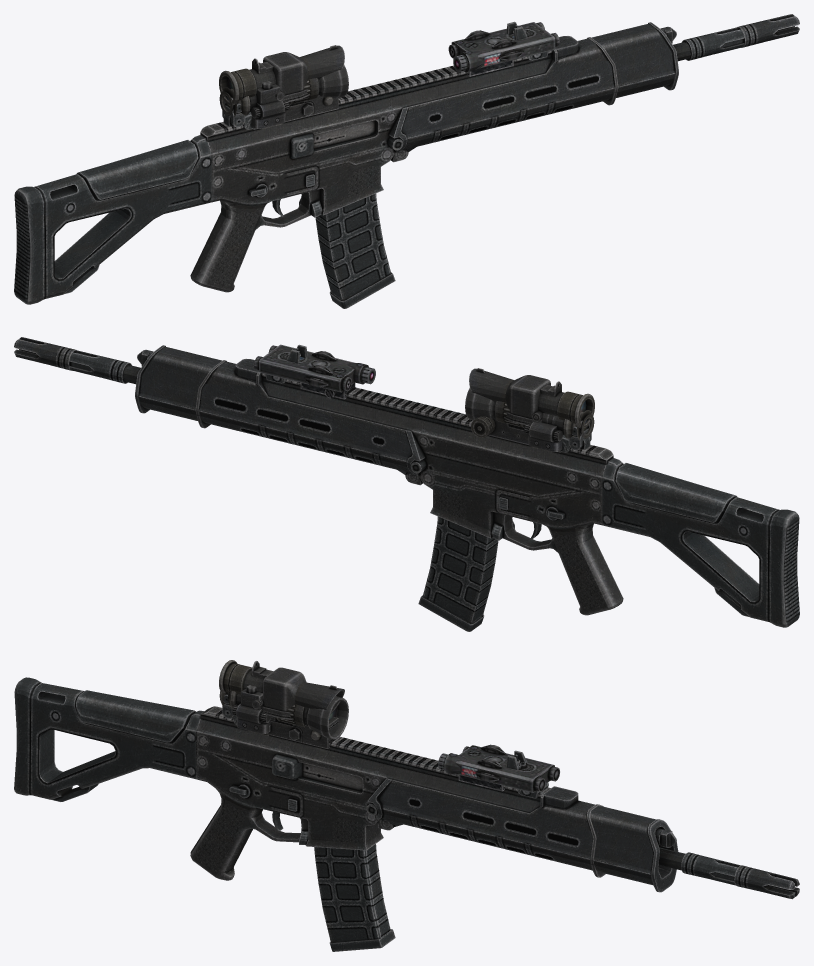
File: AssaultRifle01.FBX
3 views of the same model, one above another, from view 1: azimuth 30°, elevation 25°; view 2: azimuth 150°, elevation 25°; view 3: azimuth 330°, elevation 25° (orthographic).
Parts seen in each view (by area): view 1: AssaultRifle01_Body01, AssaultRifle01_Imp01, AssaultRifle01_Imp04, AssaultRifle01_Imp02, AssaultRifle01_Imp03, AssaultRifle01_Body02; view 2: AssaultRifle01_Body01, AssaultRifle01_Imp01, AssaultRifle01_Imp04, AssaultRifle01_Imp02, AssaultRifle01_Body02, AssaultRifle01_Imp03; view 3: AssaultRifle01_Body01, AssaultRifle01_Imp01, AssaultRifle01_Imp04, AssaultRifle01_Imp02, AssaultRifle01_Imp03, AssaultRifle01_Body02.
Part boxes in pixels (x1=…): AssaultRifle01_Body01: x1=14, y1=51, x2=552, y2=308; AssaultRifle01_Imp01: x1=388, y1=14, x2=799, y2=152; AssaultRifle01_Imp04: x1=219, y1=45, x2=344, y2=129; AssaultRifle01_Imp02: x1=448, y1=22, x2=559, y2=76; AssaultRifle01_Imp03: x1=219, y1=64, x2=348, y2=129; AssaultRifle01_Body02: x1=408, y1=27, x2=744, y2=143; AssaultRifle01_Body01: x1=261, y1=373, x2=799, y2=631; AssaultRifle01_Imp01: x1=14, y1=337, x2=425, y2=475; AssaultRifle01_Imp04: x1=469, y1=368, x2=594, y2=452; AssaultRifle01_Imp02: x1=253, y1=344, x2=375, y2=399; AssaultRifle01_Body02: x1=69, y1=350, x2=405, y2=468; AssaultRifle01_Imp03: x1=465, y1=387, x2=594, y2=452; AssaultRifle01_Body01: x1=14, y1=677, x2=550, y2=951; AssaultRifle01_Imp01: x1=367, y1=778, x2=799, y2=899; AssaultRifle01_Imp04: x1=219, y1=660, x2=344, y2=748; AssaultRifle01_Imp02: x1=438, y1=744, x2=559, y2=792; AssaultRifle01_Imp03: x1=219, y1=685, x2=348, y2=739; AssaultRifle01_Body02: x1=383, y1=804, x2=740, y2=885.
Bounding box in the file's own units: 1.02 × 0.3341 × 0.0651.
5 materials, 5 textured.
